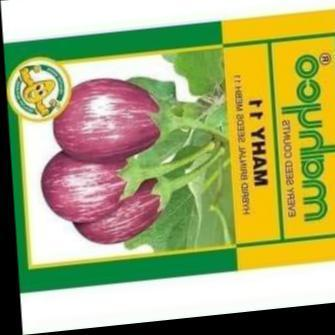eggplant: (70, 62, 187, 254), (41, 142, 188, 250), (69, 69, 174, 182)
